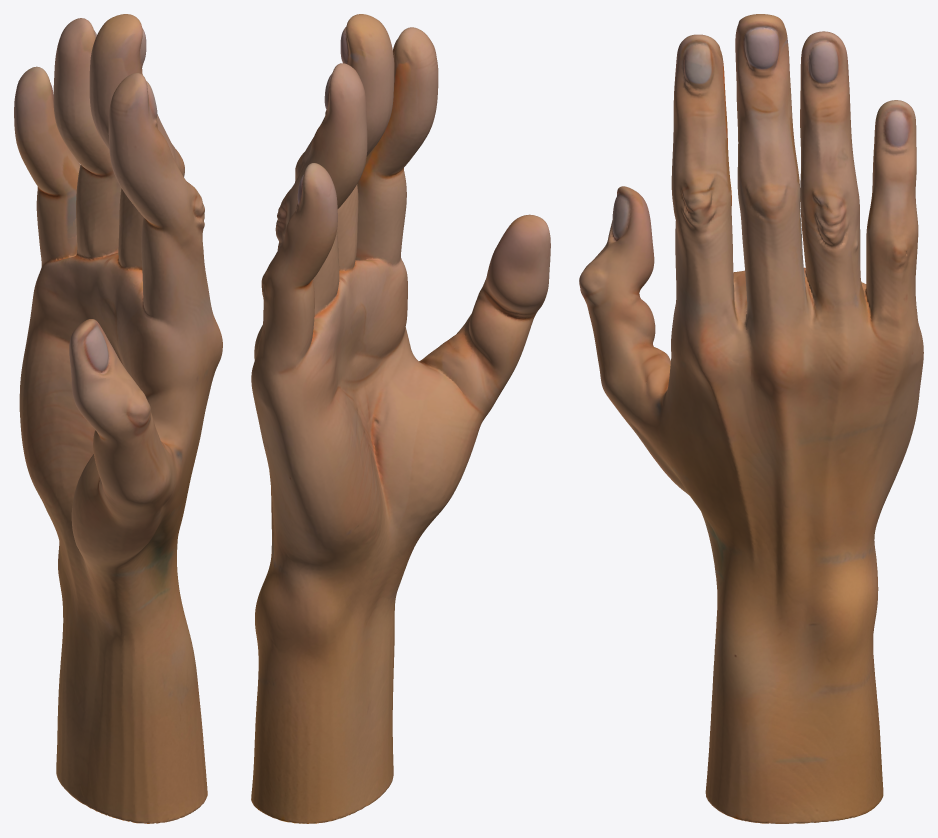
File: manofinal.glb
3 views of the same model, side by side, from view 1: azimuth 30°, elevation 25°; view 2: azimuth 150°, elevation 25°; view 3: azimuth 270°, elevation 25° (orthographic). The views are drawn at different scales.
Visible parts, largest first — view 1: tripo_node_75a93c6a-4c88-4a60-a70f-228ede80e7c6; view 2: tripo_node_75a93c6a-4c88-4a60-a70f-228ede80e7c6; view 3: tripo_node_75a93c6a-4c88-4a60-a70f-228ede80e7c6.
Boxes of the visible parts, <box> form: tripo_node_75a93c6a-4c88-4a60-a70f-228ede80e7c6: <box>14,14,222,823</box>; tripo_node_75a93c6a-4c88-4a60-a70f-228ede80e7c6: <box>251,14,550,823</box>; tripo_node_75a93c6a-4c88-4a60-a70f-228ede80e7c6: <box>579,14,923,823</box>.
Size of the model in its own units: 0.2753 by 1 by 0.4044.
Materials: 1 (1 with a texture image).
